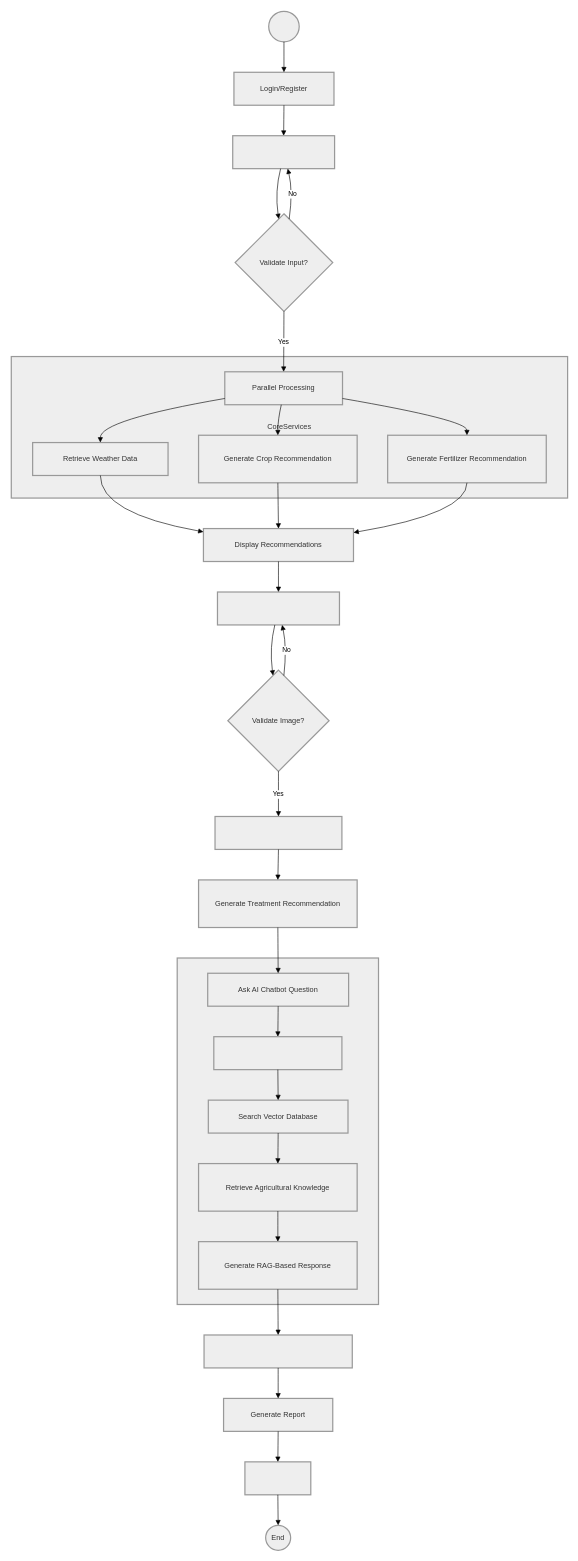
This 578x1561 diagram has some shape labels left out. The shapes that lost their labels are listed below. From the top down, each one's box as (x1, y1, x2, y2) in pixels, then its label:
(268, 10, 300, 42): Start
(232, 135, 335, 169): Enter Soil Data
(217, 591, 340, 625): Upload Plant Image
(214, 816, 342, 850): Detect Plant Disease
(213, 1036, 342, 1070): Generate Embedding
(176, 957, 379, 1305): RAG_Pipeline
(203, 1334, 353, 1368): Display Chatbot Response
(244, 1461, 311, 1495): Logout
